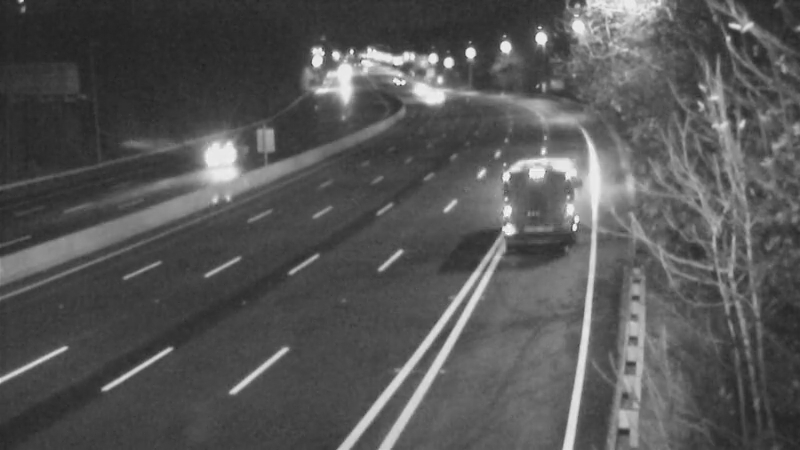vehicle: (513, 144, 593, 224), (176, 114, 256, 194), (374, 54, 424, 104), (388, 61, 438, 111), (406, 73, 456, 123)
